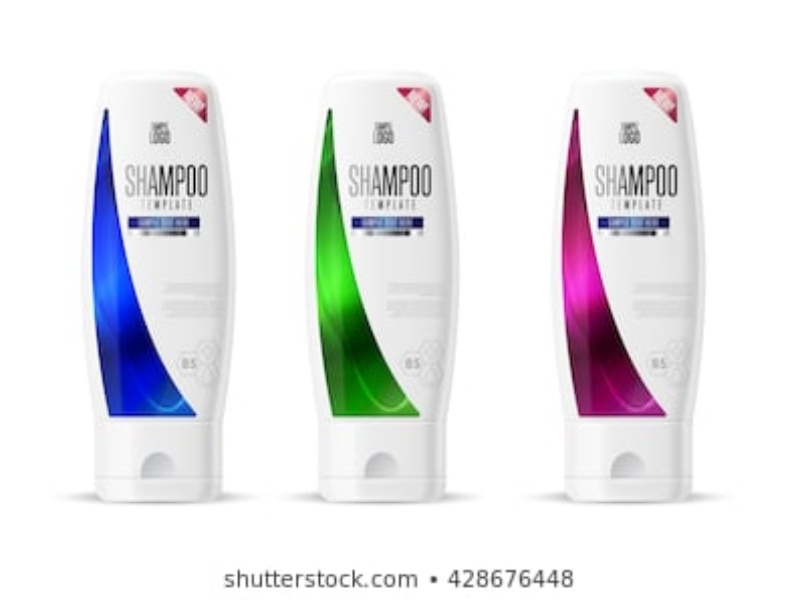shampoo-bottle: (301, 65, 460, 512), (87, 66, 237, 505), (550, 70, 700, 506)
